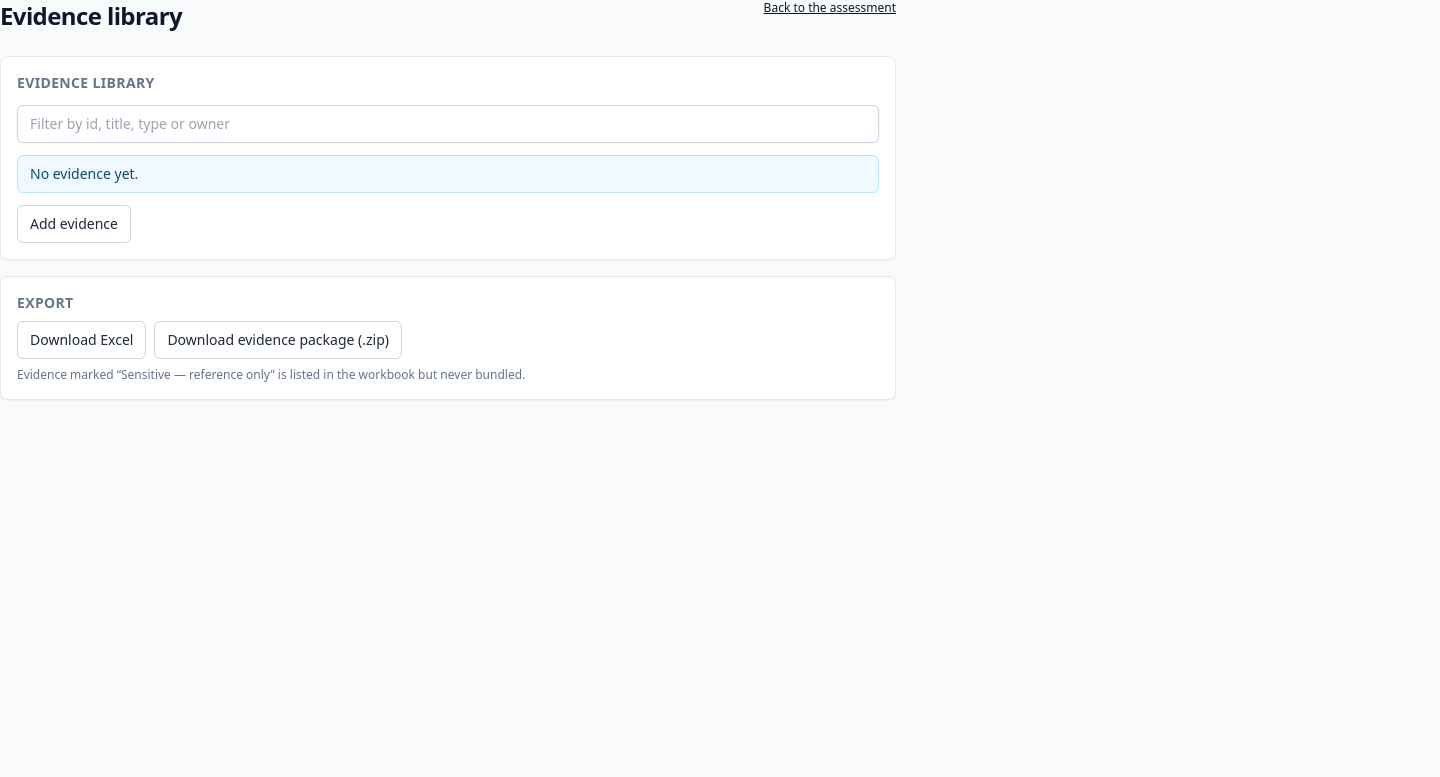
Test: Tier 2 — evidence › rejects a non-http URL
Click the button "Add evidence": [74, 224] box [17, 205, 131, 243]
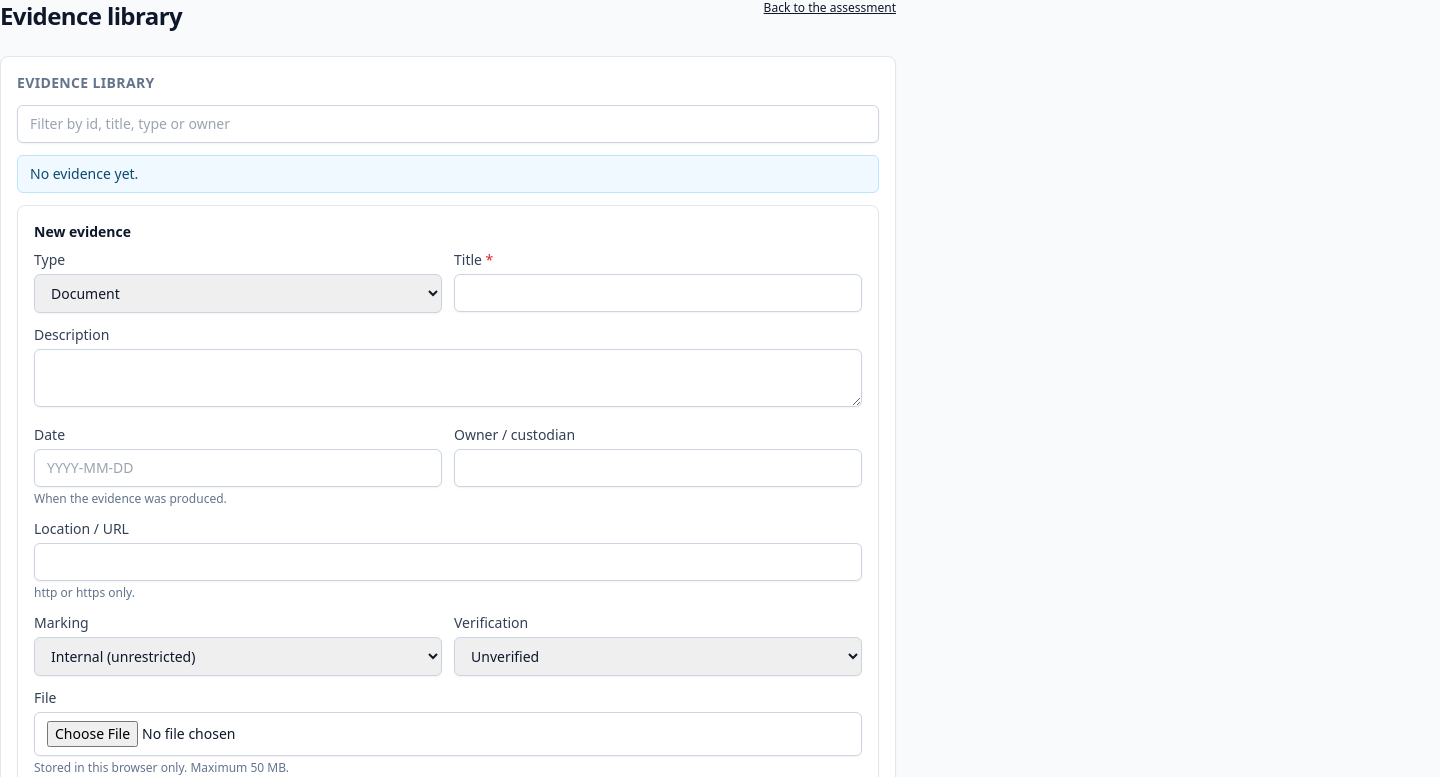
In the field labelled "Title *": [658, 293] box [454, 274, 862, 312], type "Link"
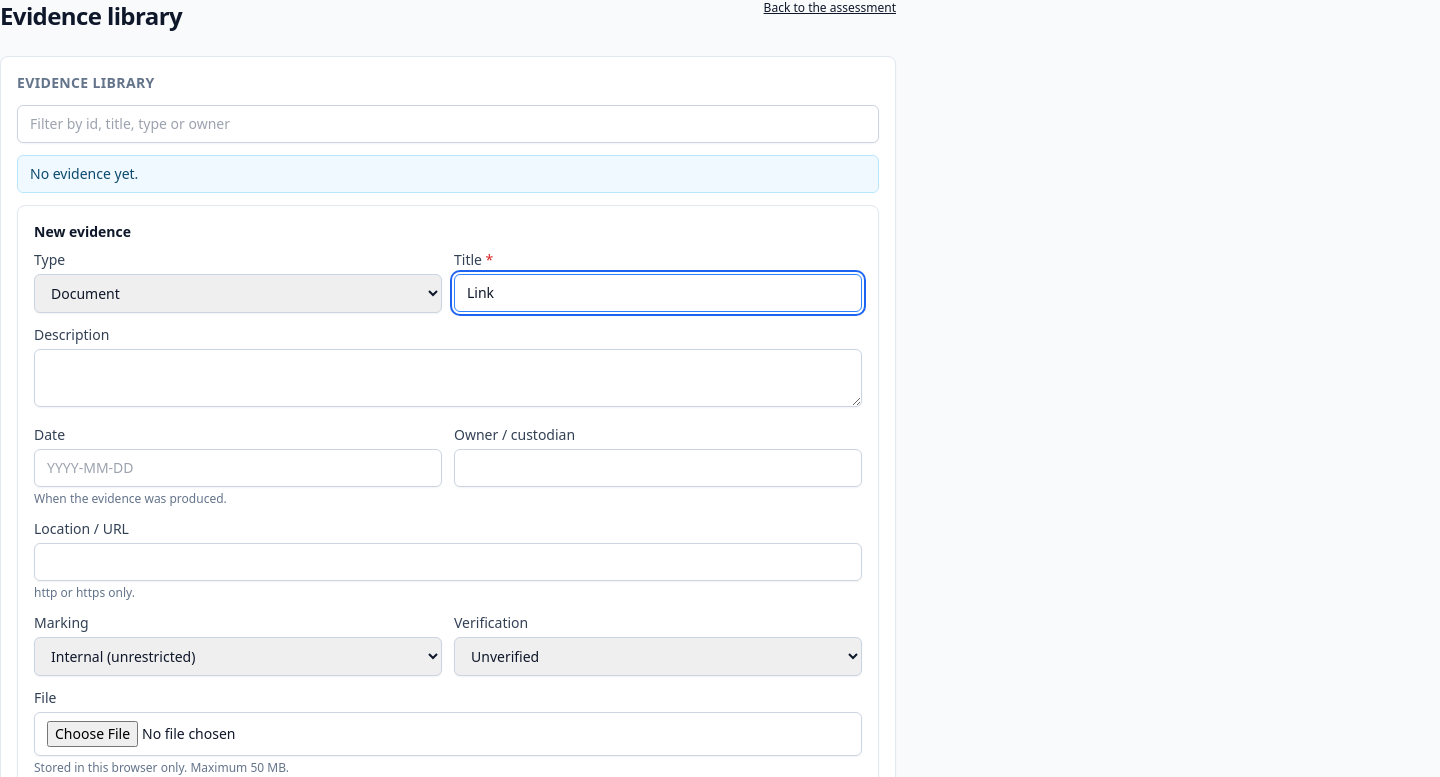
In the field labelled "Location / URL": [448, 562] box [34, 543, 862, 581], type "javascript:alert(1)"
(page scrolled)
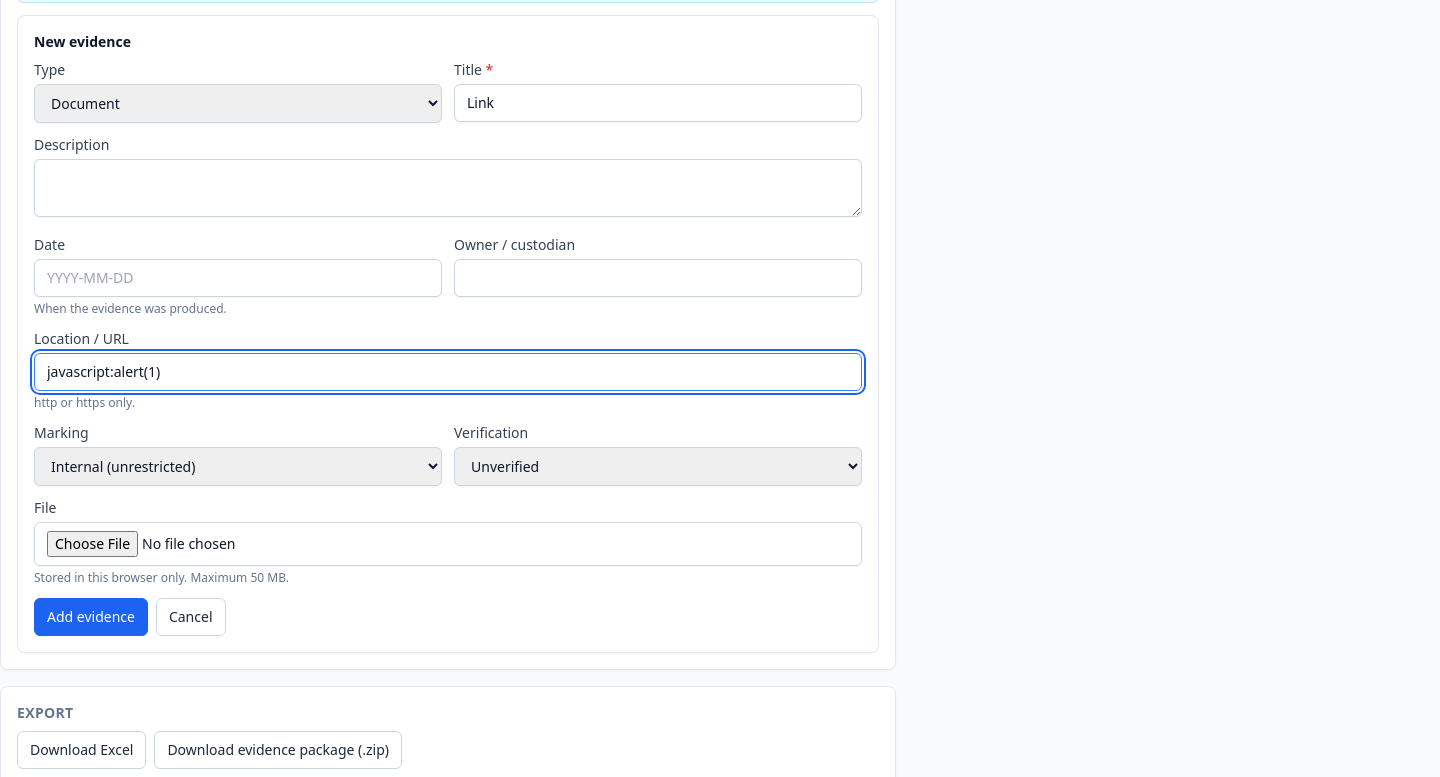
Click the button "Add evidence": [91, 617] box [34, 598, 148, 636]
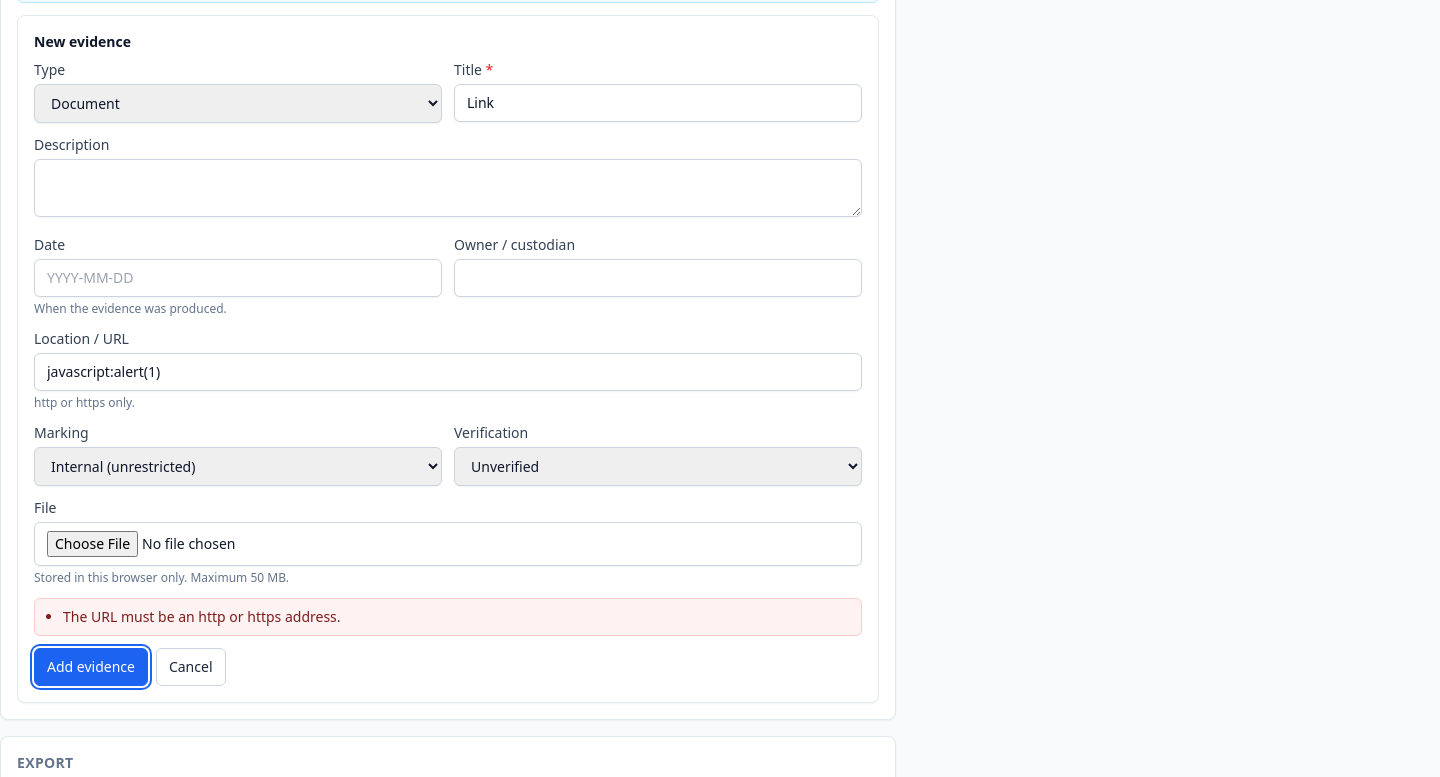
Check: the message shows "http or https", box [63, 607, 341, 626]
